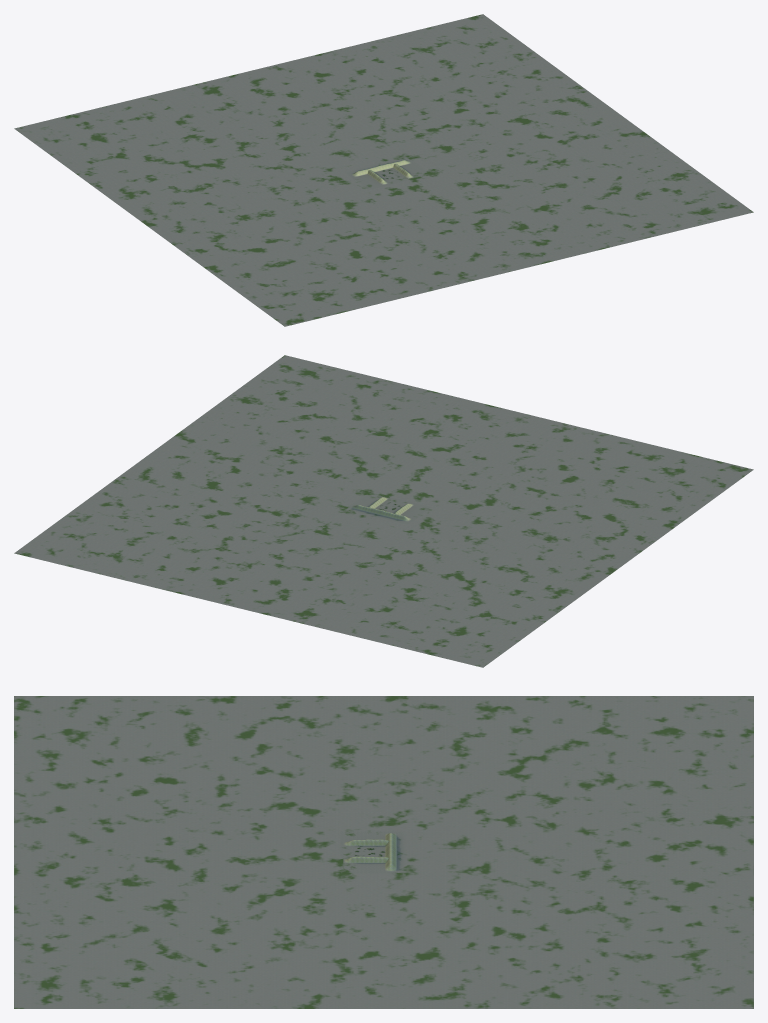
Rendered from env_outdoor_02.glb.
3 views of the same model, one above another, from view 1: azimuth 30°, elevation 25°; view 2: azimuth 150°, elevation 25°; view 3: azimuth 270°, elevation 25° (orthographic). The views are drawn at different scales.
Parts seen in each view (by area): view 1: ground_mid; view 2: ground_mid; view 3: ground_mid, ground_near_0, ground_near_2.
Part boxes in pixels (x1,y1,x2,y2): ground_mid: (14, 14, 753, 326); ground_mid: (14, 355, 753, 667); ground_mid: (14, 696, 753, 1008); ground_near_0: (340, 831, 371, 852); ground_near_2: (340, 852, 371, 873).
Size of what is drawn, in the model's own units: 420 by 2.68 by 420.
Materials: 9 (9 with a texture image).
